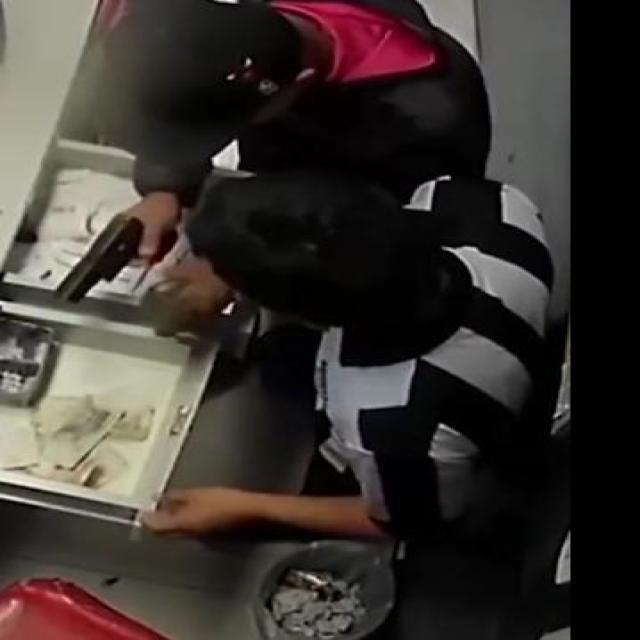Gun: (55, 204, 181, 318)
